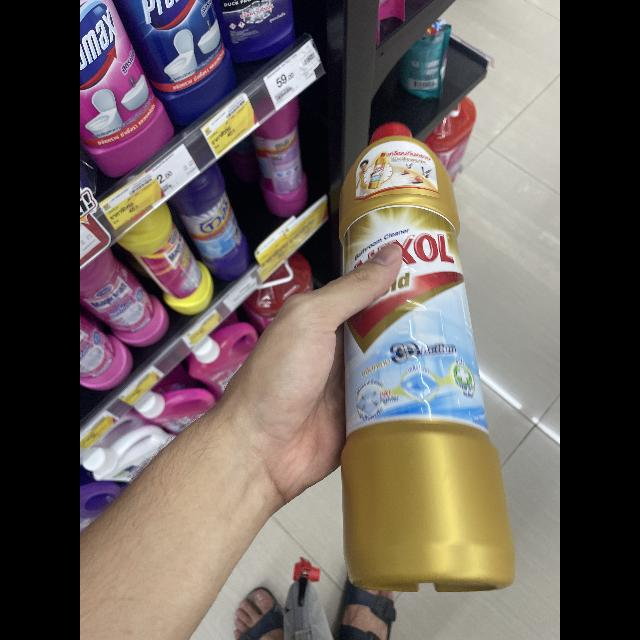chemical_plastic_bottle: (332, 115, 512, 599)
